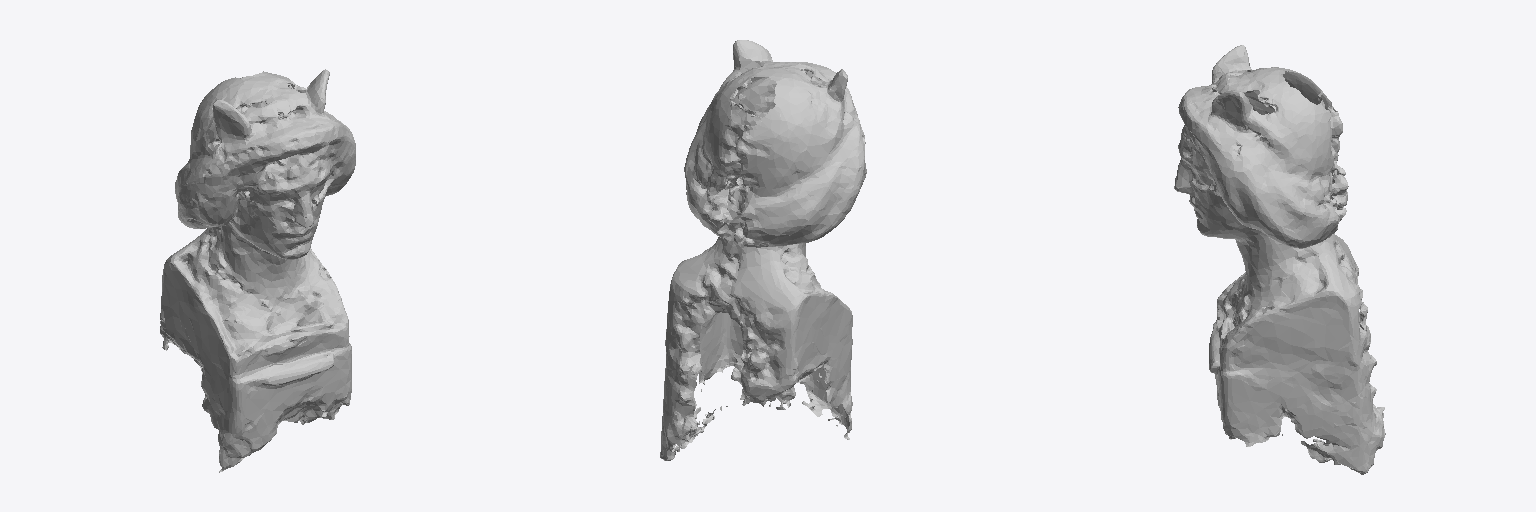
File: blackHead_lowpoly.obj
The picture shows the model from 3 angles: view 1: azimuth 30°, elevation 25°; view 2: azimuth 150°, elevation 25°; view 3: azimuth 270°, elevation 25°; orthographic projection.
Size of the model in its own units: 1.7 by 3.7 by 1.88.